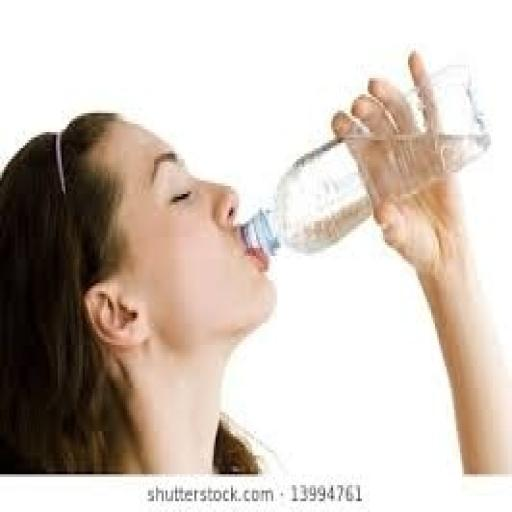drinking: (81, 61, 491, 367)
